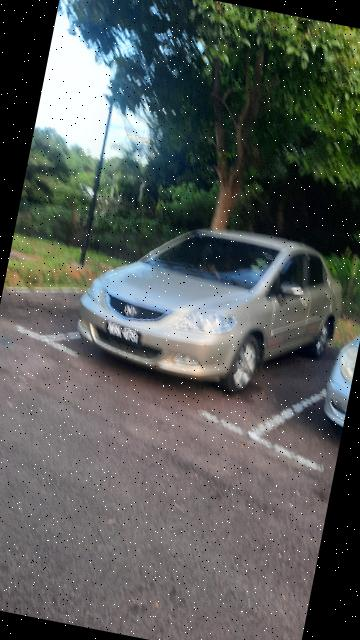License_Plate: (103, 321, 146, 349)
car: (62, 194, 360, 425)
